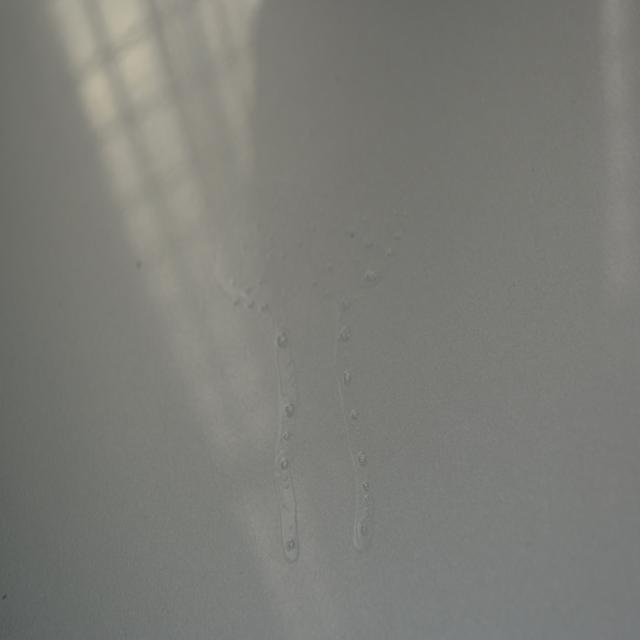dirt: (134, 257, 142, 272)
runs: (214, 190, 410, 568)
